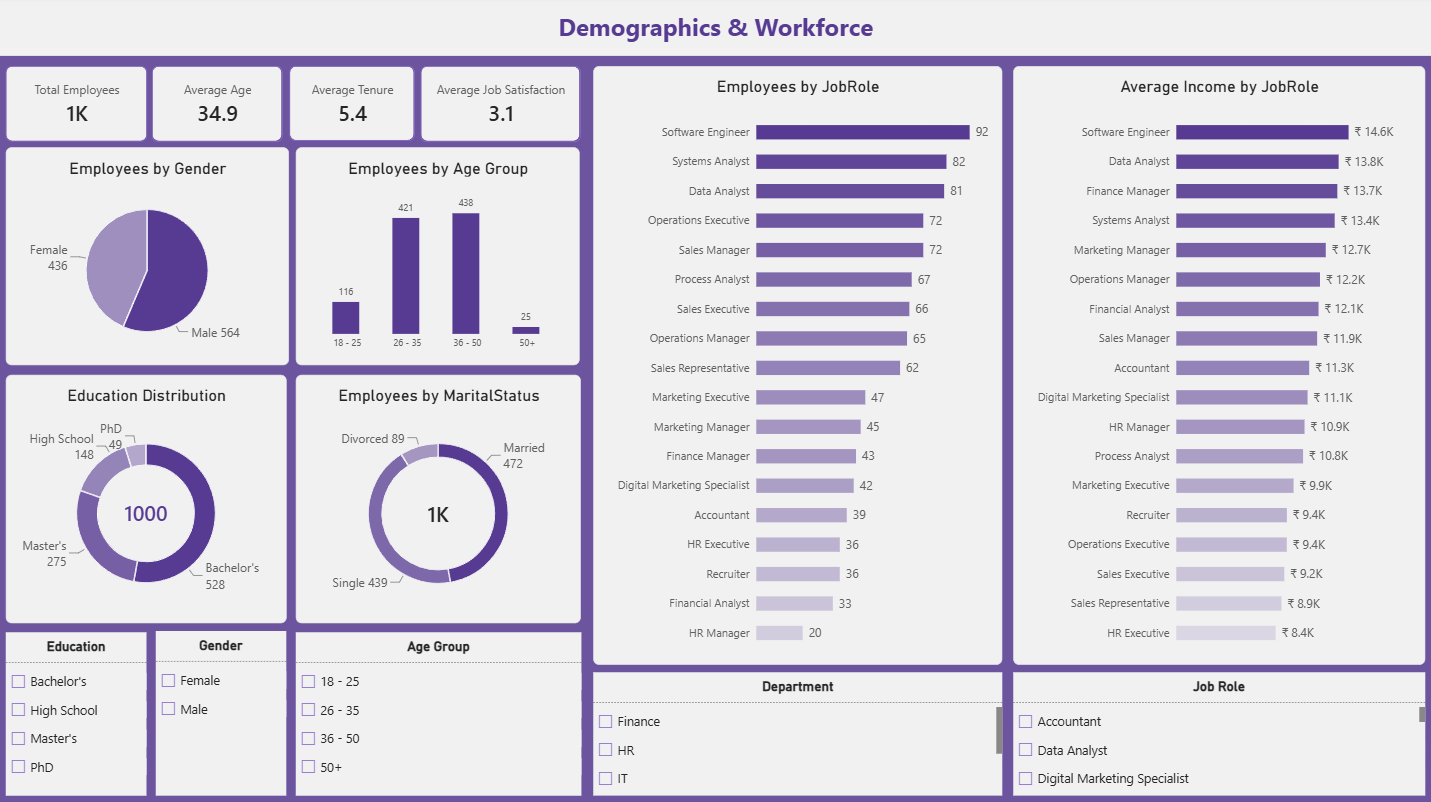

The page's visual inventory and layout, read from the dashboard file:
{"tool":"powerbi","page":{"name":"Demographics & Workforce","canvas":[1920,1080],"ordinal":1},"visuals":[{"type":"cardVisual","fields":{"Data":["HR_Data.Total Employees"]},"box":[12,94,189,101],"z":0},{"type":"cardVisual","fields":{"Data":["HR_Data.Average Age"]},"box":[206.4,92.9,174.3,101.4],"z":1000},{"type":"cardVisual","fields":{"Data":["HR_Data.Average Tenure"]},"box":[390.2,94.1,167.5,100],"z":2000},{"type":"cardVisual","fields":{"Data":["HR_Data.Average Job Satisfaction"]},"box":[566.5,94.1,213.8,101.2],"z":3000},{"type":"donutChart","title":"Education Distribution","fields":{"Category":["HR_Data.Education"],"Y":["HR_Data.Total Employees"]},"box":[12.2,506.7,375,331.7],"z":4000},{"type":"columnChart","title":"Employees by Age Group","fields":{"Category":["HR_Data.Age_Group"],"Y":["HR_Data.Total Employees"]},"box":[398.9,202.2,378.9,291.1],"z":5000},{"type":"barChart","title":"Employees by JobRole","fields":{"Category":["HR_Data.JobRole"],"Y":["HR_Data.Total Employees"]},"box":[796,93.3,546,800],"z":6000},{"type":"barChart","title":"Average Income by JobRole","fields":{"Category":["HR_Data.JobRole"],"Y":["HR_Data.Average Monthly Income"]},"box":[1358,93,550,800],"z":7000},{"type":"pieChart","title":"Employees by Gender","fields":{"Category":["HR_Data.Gender"],"Y":["HR_Data.Total Employees"]},"box":[12,202,378,291],"z":8000},{"type":"donutChart","title":"Employees by MaritalStatus","fields":{"Category":["HR_Data.MaritalStatus"],"Y":["HR_Data.Total Employees"]},"box":[398.9,506.7,381.1,332.2],"z":9000},{"type":"slicer","title":"Gender","fields":{"Values":["HR_Data.Gender"]},"box":[212,848,174,220],"z":10000},{"type":"slicer","title":"Education","fields":{"Values":["HR_Data.Education"]},"box":[12,850,188,218],"z":11000},{"type":"slicer","title":"Department","fields":{"Values":["HR_Data.Department"]},"box":[796.7,903.3,546.7,165],"z":12000},{"type":"slicer","title":"Age Group","fields":{"Values":["HR_Data.Age_Group"]},"box":[398.6,850,381.4,218.6],"z":13000},{"type":"slicer","title":"Job Role","fields":{"Values":["HR_Data.JobRole"]},"box":[1358,903,550,165],"z":14000},{"type":"shape","box":[0,0,1920,80],"z":15000}]}

Visuals, with their boxes in screenshot pixels (x1, y1, x2, y2), scaled from the page's 1920x1080 canvas onto the 1431x802 screenshot:
cardVisual - HR_Data.Total Employees: 9:70:150:145
cardVisual - HR_Data.Average Age: 154:69:284:144
cardVisual - HR_Data.Average Tenure: 291:70:416:144
cardVisual - HR_Data.Average Job Satisfaction: 422:70:582:145
"Education Distribution" donutChart: 9:376:289:623
"Employees by Age Group" columnChart: 297:150:580:366
"Employees by JobRole" barChart: 593:69:1000:663
"Average Income by JobRole" barChart: 1012:69:1422:663
"Employees by Gender" pieChart: 9:150:291:366
"Employees by MaritalStatus" donutChart: 297:376:581:623
"Gender" slicer: 158:630:288:793
"Education" slicer: 9:631:149:793
"Department" slicer: 594:671:1001:793
"Age Group" slicer: 297:631:581:794
"Job Role" slicer: 1012:671:1422:793
shape: 0:0:1430:59
